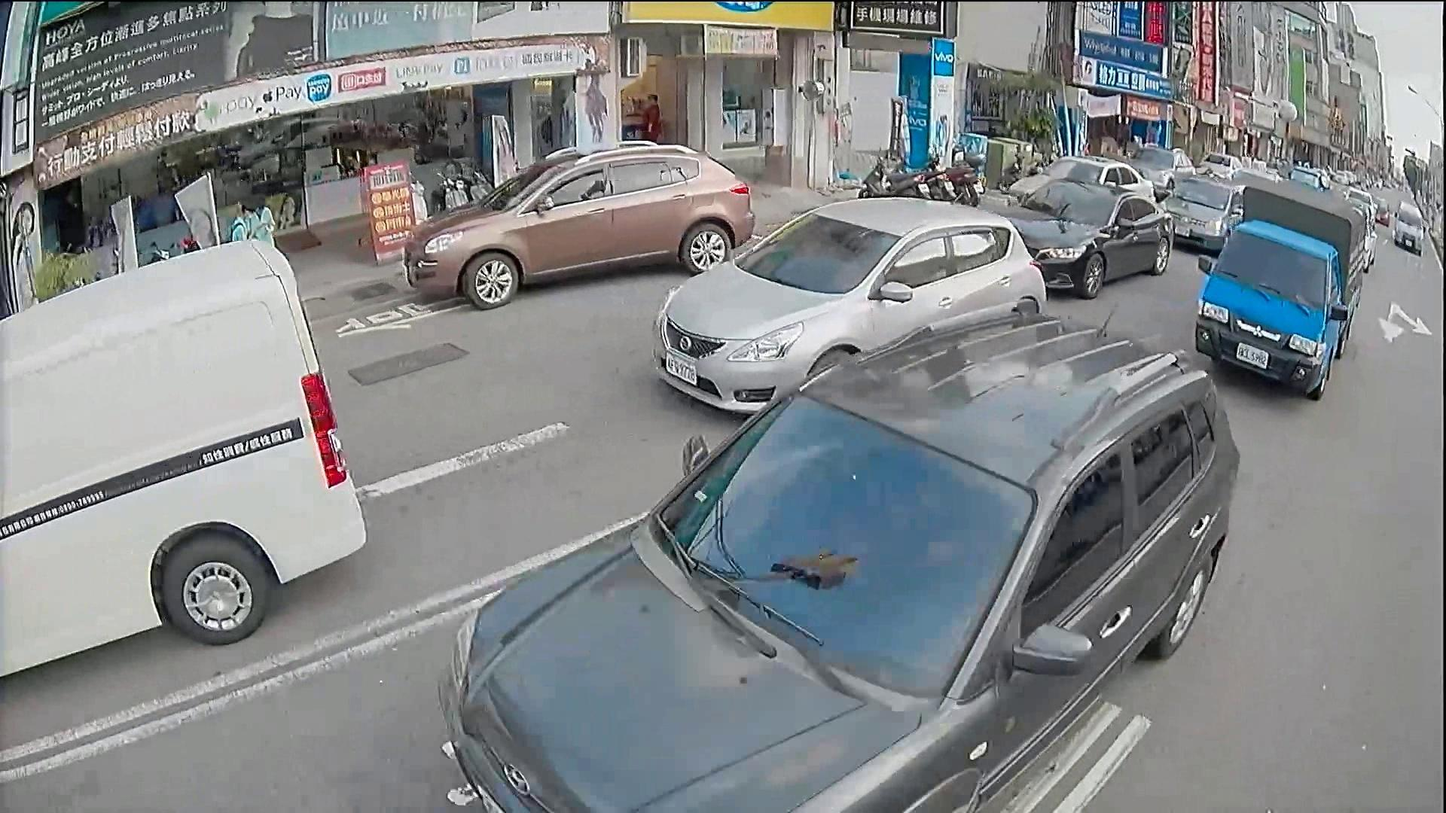person: (638, 92, 660, 140), (254, 199, 276, 247)
